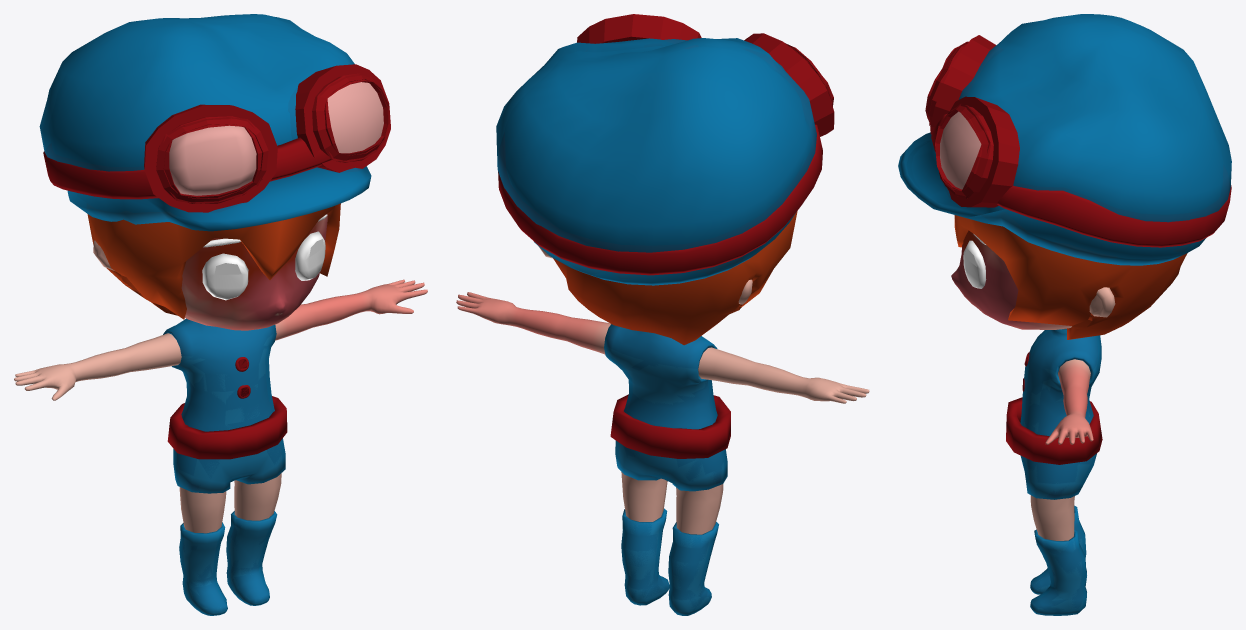
The model's file is chibi character.fbx.
The picture shows the model from 3 angles, left to right: view 1: azimuth 30°, elevation 25°; view 2: azimuth 150°, elevation 25°; view 3: azimuth 270°, elevation 25°; orthographic projection. The views are drawn at different scales.
Visible parts, largest first — view 1: hair, body, cloth; view 2: hair, cloth, body; view 3: hair, cloth, body.
Part boxes in pixels (x1,y1,x2,y2): hair: [39, 14, 390, 319]; body: [14, 82, 427, 533]; cloth: [163, 318, 287, 615]; hair: [496, 14, 834, 345]; cloth: [604, 324, 730, 615]; body: [456, 246, 869, 534]; hair: [898, 14, 1231, 339]; cloth: [1006, 329, 1102, 615]; body: [940, 111, 1115, 540].
Size of the model in its own units: 106 by 143 by 77.36.
